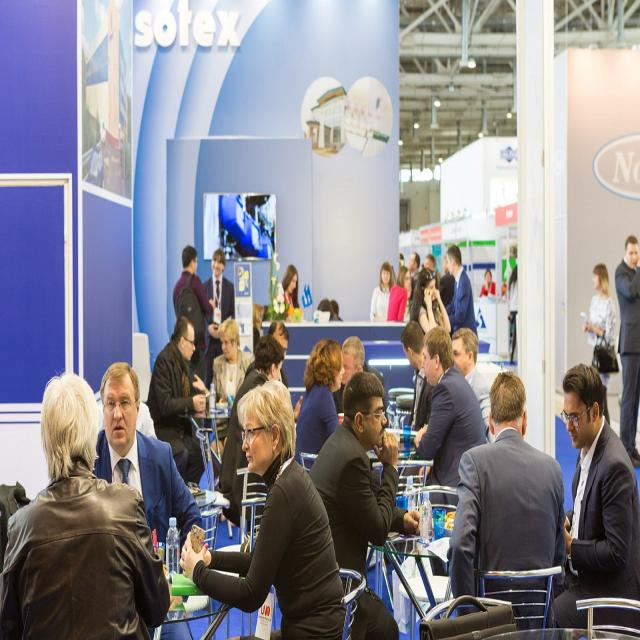body: (0, 368, 173, 639), (178, 376, 350, 640), (295, 368, 425, 639), (445, 368, 569, 640), (549, 360, 640, 631), (91, 358, 203, 550), (412, 324, 488, 513), (418, 325, 488, 515), (218, 333, 284, 530), (145, 315, 209, 487), (210, 317, 256, 481), (292, 338, 345, 474), (172, 244, 214, 398), (613, 233, 639, 470), (581, 263, 617, 427), (200, 246, 236, 391), (332, 334, 388, 420), (400, 318, 436, 433), (443, 243, 479, 340), (244, 320, 290, 391), (409, 266, 452, 334), (369, 260, 395, 323), (386, 265, 412, 324), (506, 262, 518, 366), (281, 263, 301, 322), (314, 294, 344, 326), (438, 254, 456, 305), (407, 250, 421, 301), (480, 268, 496, 297), (424, 252, 438, 274), (399, 251, 405, 266)
